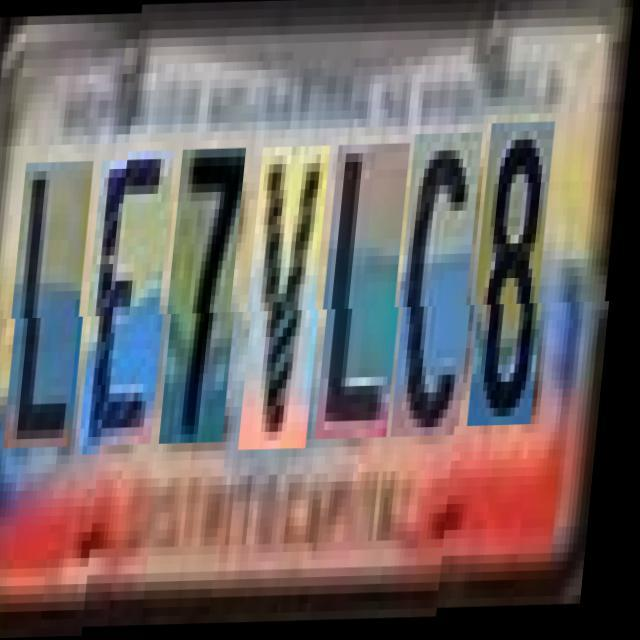7: (168, 150, 253, 444)
8: (476, 134, 562, 438)
C: (400, 136, 490, 440)
E: (88, 151, 182, 447)
L: (323, 146, 418, 442), (13, 153, 102, 440)
V: (248, 148, 338, 452)
